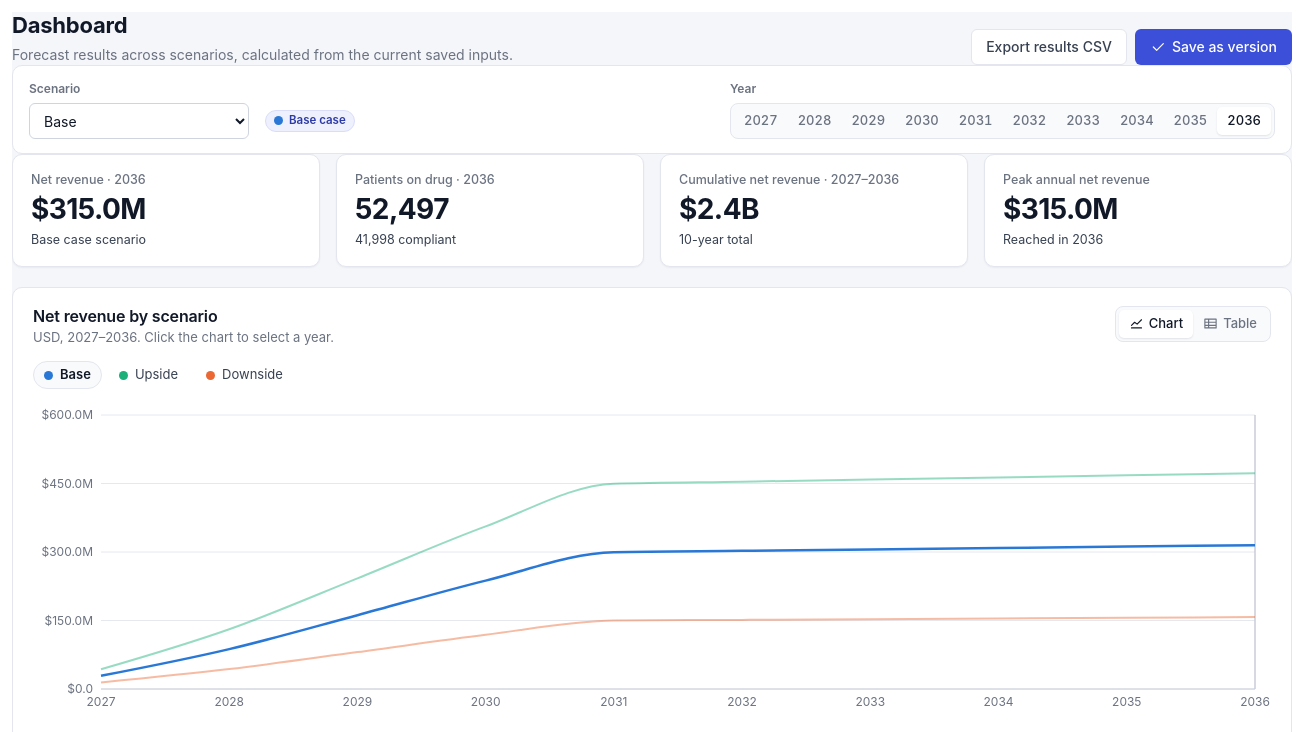
Test case: DashboardPage › offers a table view of net revenue by scenario
This screenshot has width=1304, height=732.
Click the button "Table" at (1230, 324), box [1193, 310, 1267, 338]
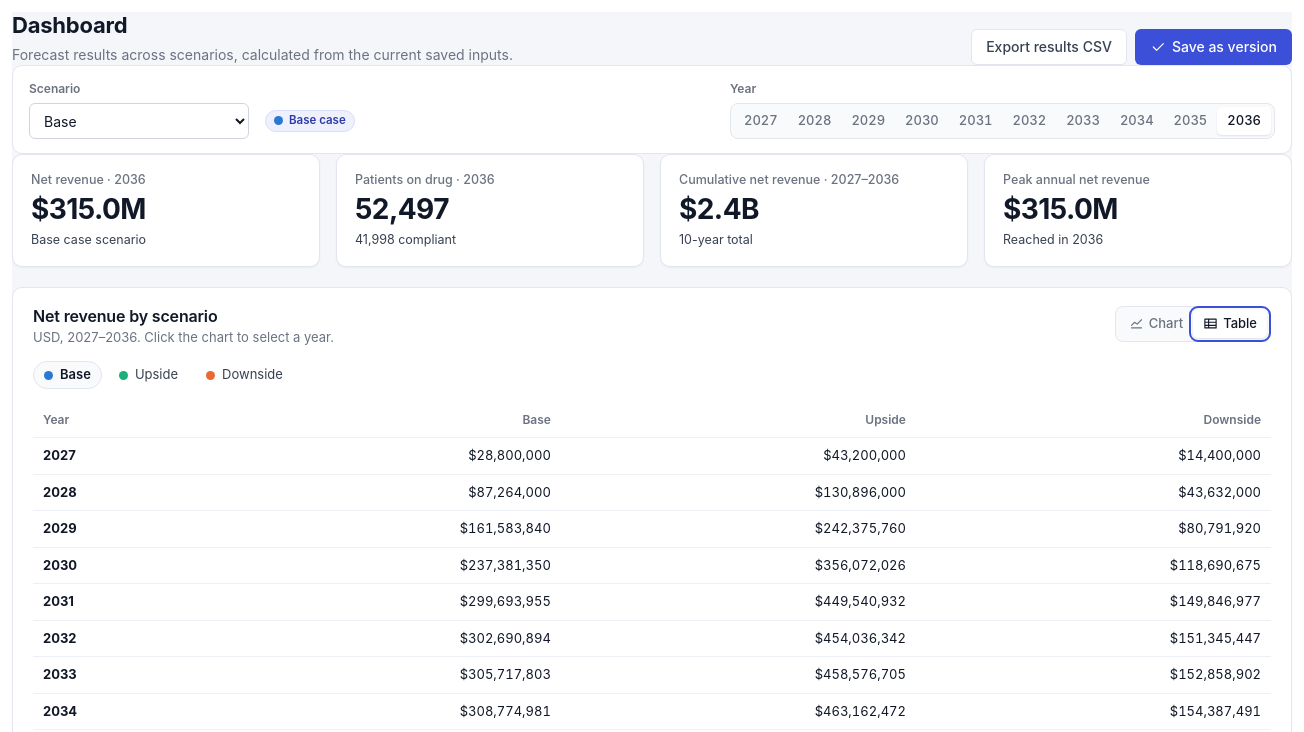
Expected: the cells read "$28,800,000", "$43,200,000", "$14,400,000", in this order, [206, 438, 561, 474]; [561, 438, 916, 474]; [916, 438, 1271, 474]
